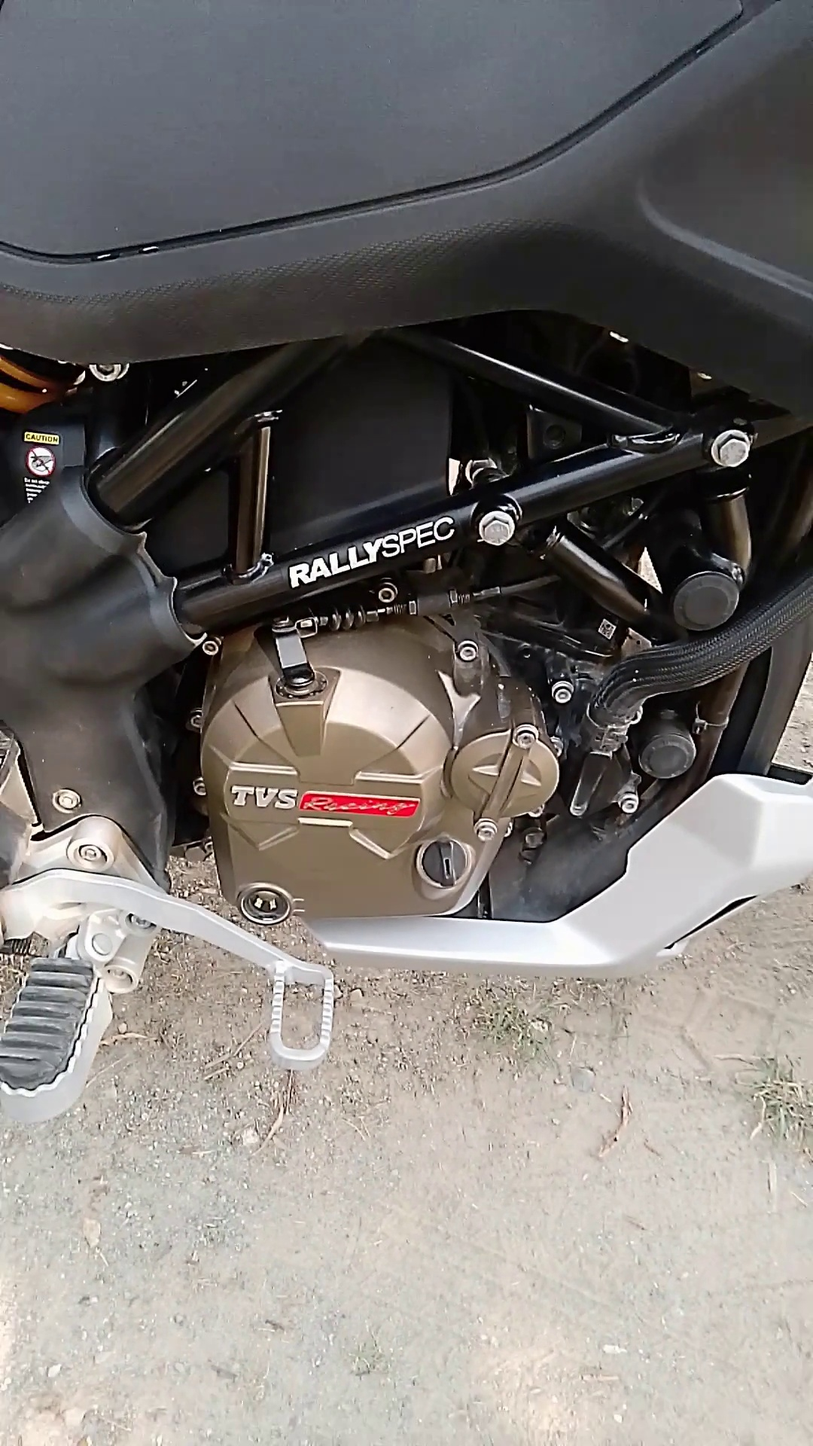bike-engine: (210, 614, 564, 926)
bike-engine-level: (235, 879, 292, 935)
bike-oil-cap: (415, 831, 478, 903)
